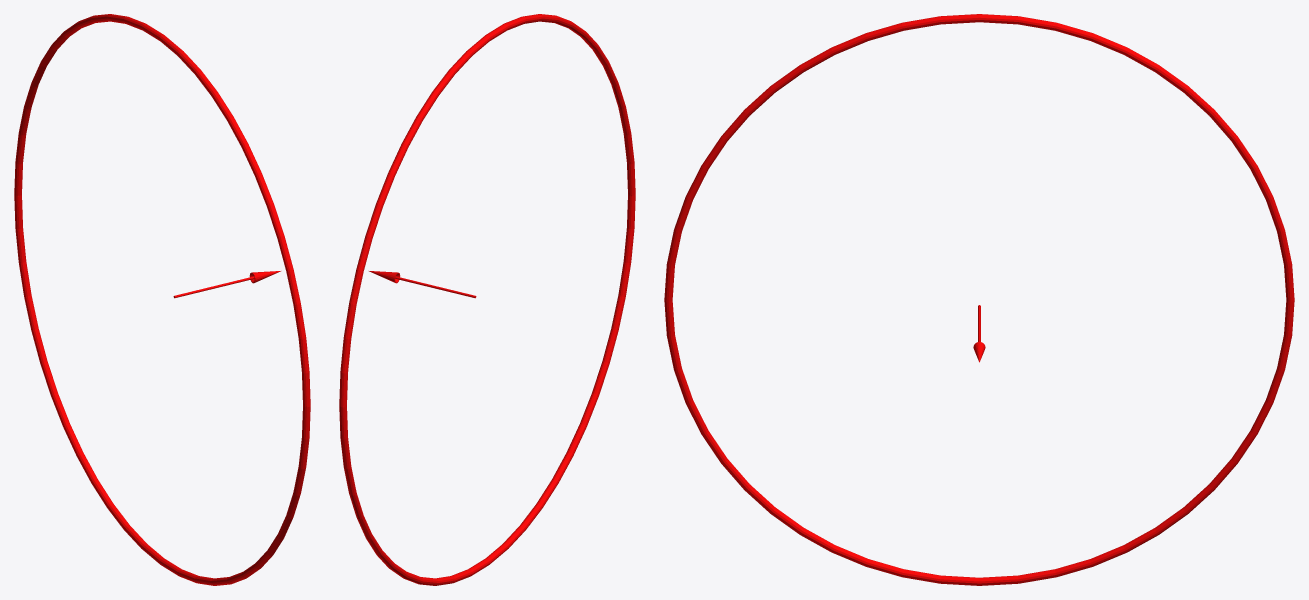
Rendered from Rotate_X.glb.
3 renders of one model, left to right at view 1: azimuth 30°, elevation 25°; view 2: azimuth 150°, elevation 25°; view 3: azimuth 270°, elevation 25°, orthographic. The views are drawn at different scales.
Parts seen in each view (by area): view 1: Rotate_X; view 2: Rotate_X; view 3: Rotate_X.
Part boxes in pixels (box(x1,y1,x2,y2)): Rotate_X: box(14, 14, 310, 585); Rotate_X: box(339, 14, 635, 585); Rotate_X: box(664, 14, 1294, 585).
Size of the model in its own units: 0.0738 by 0.304 by 0.304.
